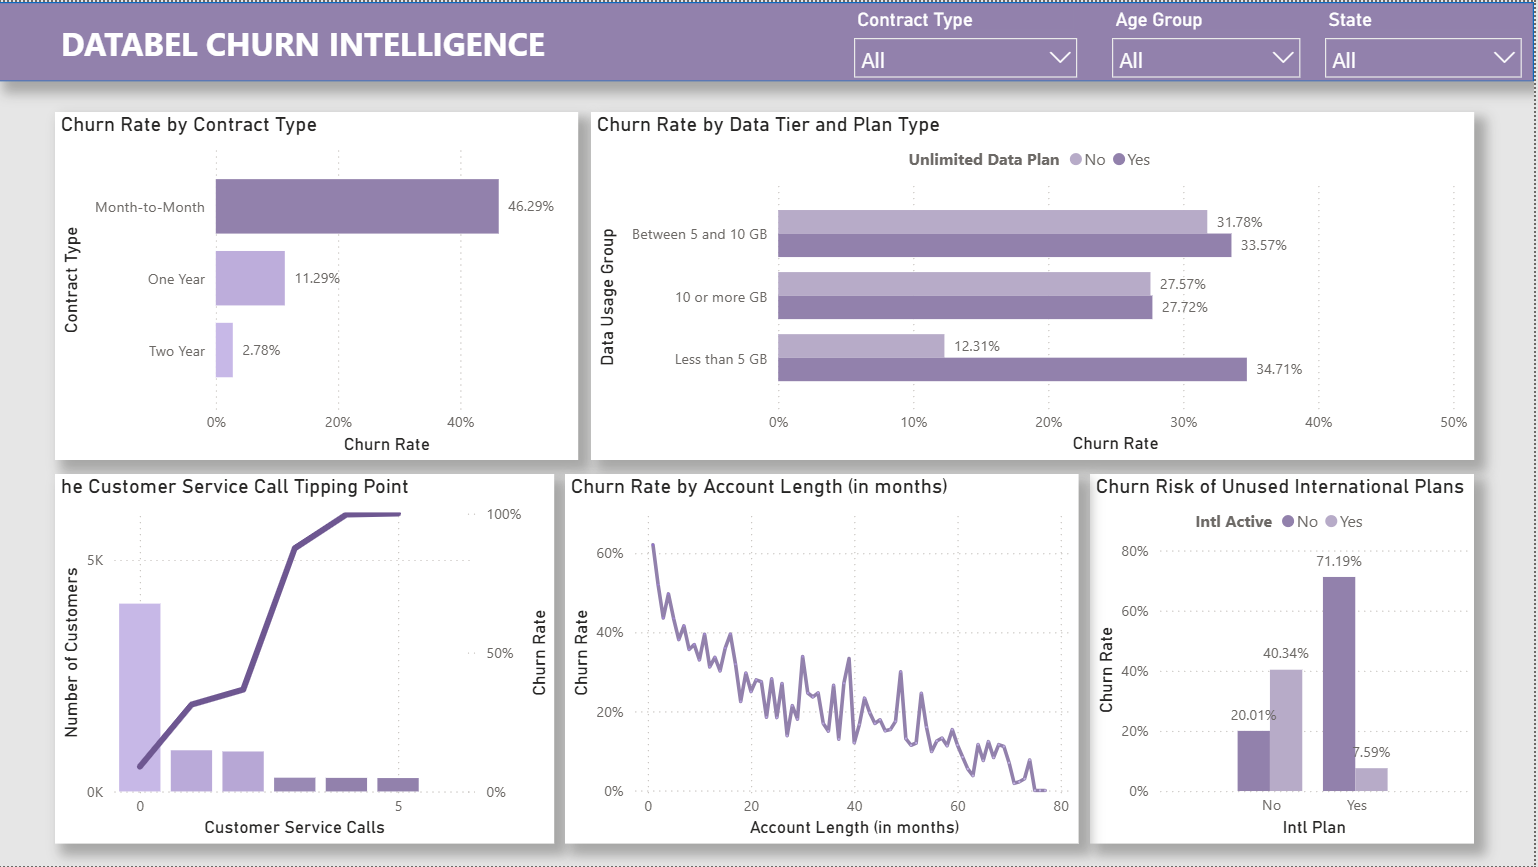

The dashboard page shown, as its layout file describes it:
{"tool":"powerbi","page":{"name":"Usage and Drivers","canvas":[1280,720],"ordinal":1},"visuals":[{"type":"clusteredBarChart","fields":{"Category":["Dim_Services.Contract Type"],"Y":["_Measures.Churn Rate"]},"box":[47.1,91.4,436.4,289.5],"z":0},{"type":"lineClusteredColumnComboChart","title":"he Customer Service Call Tipping Point","fields":{"Category":["Fact_Churn.Customer Service Calls"],"Y2":["_Measures.Churn Rate"],"Y":["CountNonNull(Fact_Churn.Customer ID)"]},"box":[47.1,393.4,415.6,307.5],"z":1000},{"type":"clusteredBarChart","title":"Churn Rate by Data Tier and Plan Type","fields":{"Series":["Dim_Services.Unlimited Data Plan"],"Y":["_Measures.Churn Rate"],"Category":["Fact_Churn.Data Usage Group"]},"box":[494.5,91.4,735.6,289.5],"z":2000},{"type":"clusteredColumnChart","title":"Churn Risk of Unused International Plans","fields":{"Category":["Dim_Services.Intl Plan"],"Y":["_Measures.Churn Rate"],"Series":["Dim_Services.Intl Active"]},"box":[910.1,393.4,320,307.5],"z":3000},{"type":"lineChart","fields":{"Y":["_Measures.Churn Rate"],"Category":["Fact_Churn.Account Length (in months)"]},"box":[472.4,393.4,428.1,307.5],"z":4000},{"type":"shape","box":[0,0,1280,66.5],"z":5000},{"type":"textbox","box":[47.1,11.1,516.7,47.1],"z":6000},{"type":"slicer","fields":{"Values":["Dim_Customer.Age Group"]},"box":[918.4,0,177.3,66.5],"z":7000},{"type":"slicer","fields":{"Values":["Dim_Geography.State"]},"box":[1095.8,0,184.2,66.5],"z":8000},{"type":"slicer","fields":{"Values":["Dim_Services.Contract Type"]},"box":[703.7,0,206.4,66.5],"z":9000}]}

Visuals, with their boxes in screenshot pixels (x1, y1, x2, y2), scaled from the page's 1280x720 canvas onto the 1538x867 screenshot:
clusteredBarChart - Dim_Services.Contract Type x _Measures.Churn Rate: box(57, 110, 581, 459)
"he Customer Service Call Tipping Point" lineClusteredColumnComboChart: box(57, 474, 556, 844)
"Churn Rate by Data Tier and Plan Type" clusteredBarChart: box(594, 110, 1478, 459)
"Churn Risk of Unused International Plans" clusteredColumnChart: box(1094, 474, 1478, 844)
lineChart - _Measures.Churn Rate x Fact_Churn.Account Length (in months): box(568, 474, 1082, 844)
shape: box(0, 0, 1537, 80)
textbox: box(57, 13, 677, 70)
slicer - Dim_Customer.Age Group: box(1104, 0, 1317, 80)
slicer - Dim_Geography.State: box(1317, 0, 1537, 80)
slicer - Dim_Services.Contract Type: box(846, 0, 1094, 80)
